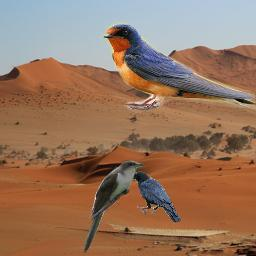Crow: (127, 171, 181, 224)
Cuckoo: (81, 159, 145, 255)
Swallow: (99, 20, 256, 115)
